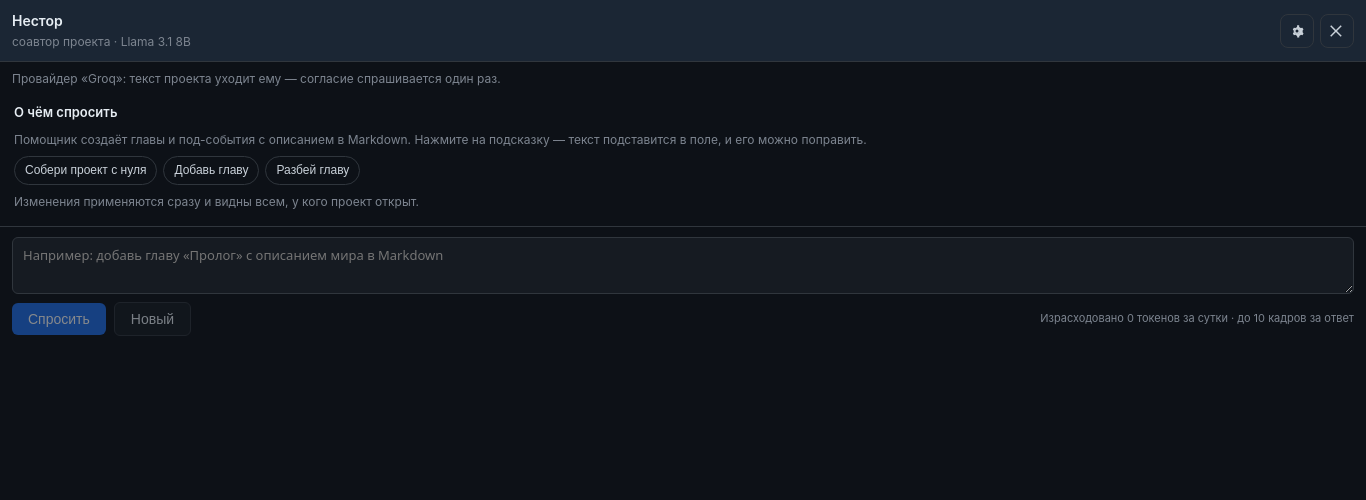
Test: AssistantPanel › показывает предложения сервера и подставляет выбранное в поле ввода
Type "Что дальше?" into the text box named "Сообщение помощнику".
click(683, 266); type("Что дальше?")  # box [12,237,1354,294]
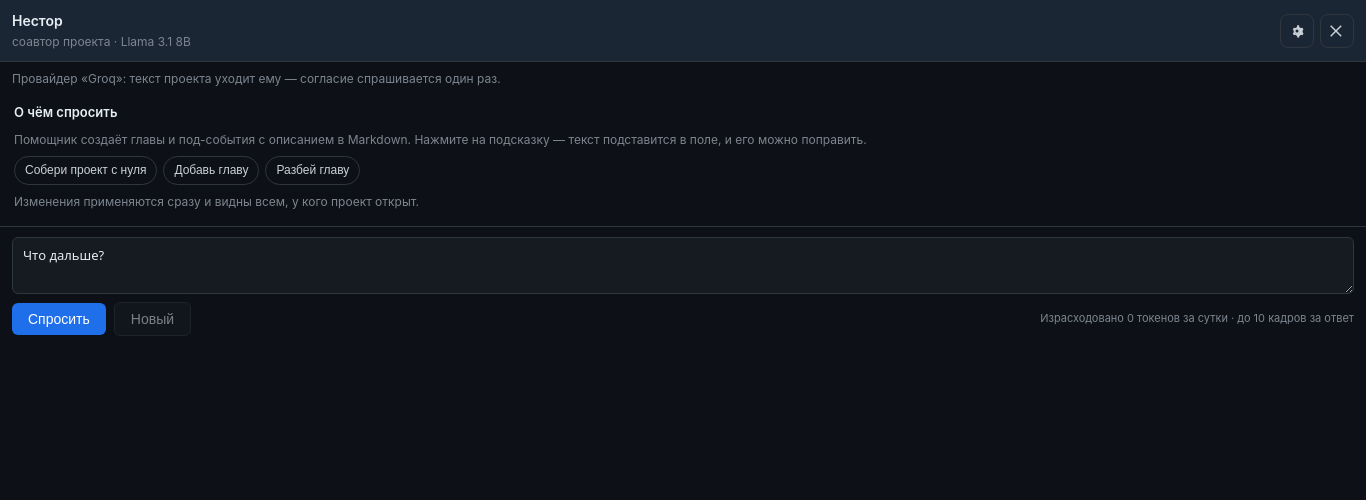
Click the button "Спросить".
click(59, 319)  # box [12,303,106,335]
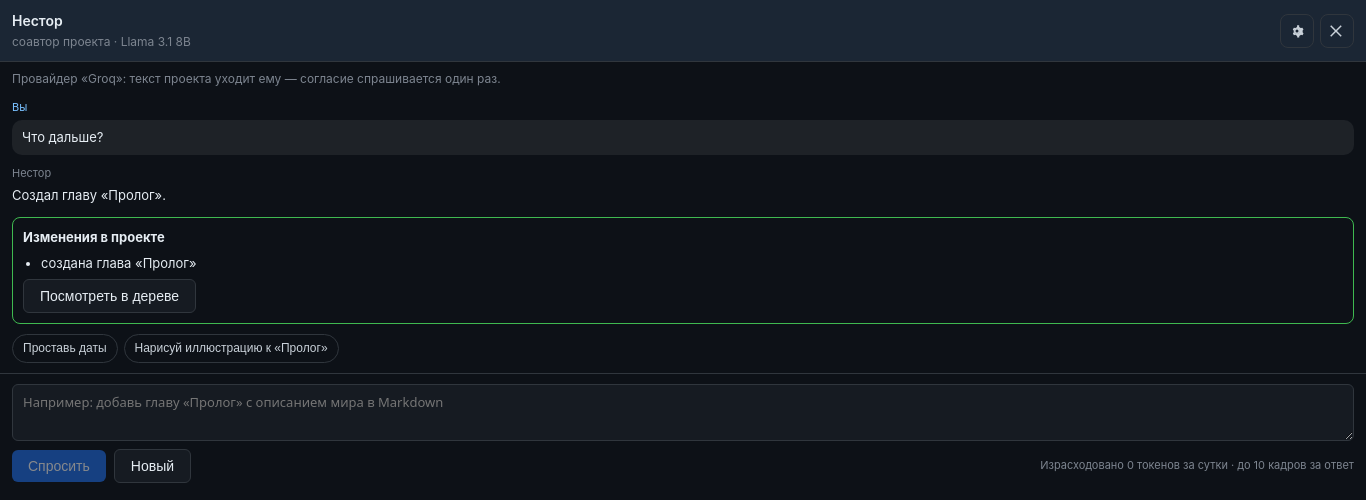
Click the button "Нарисуй иллюстрацию к «Пролог»".
click(231, 349)  # box [124,334,338,363]
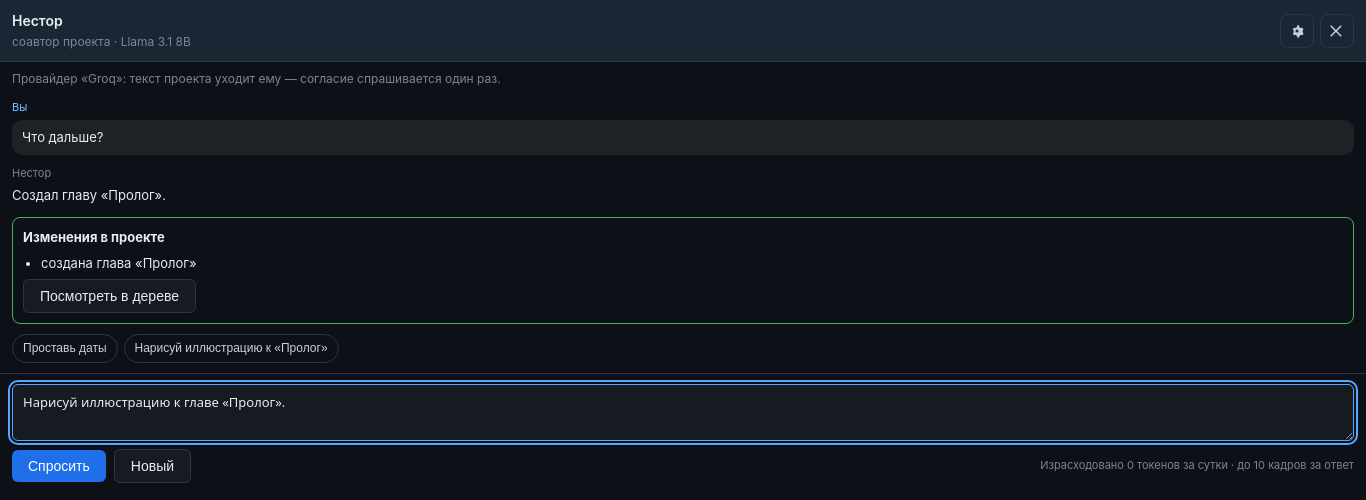
Now the text box named "Сообщение помощнику" holds "Нарисуй иллюстрацию к главе «Пролог».", box [12,384,1354,441]
